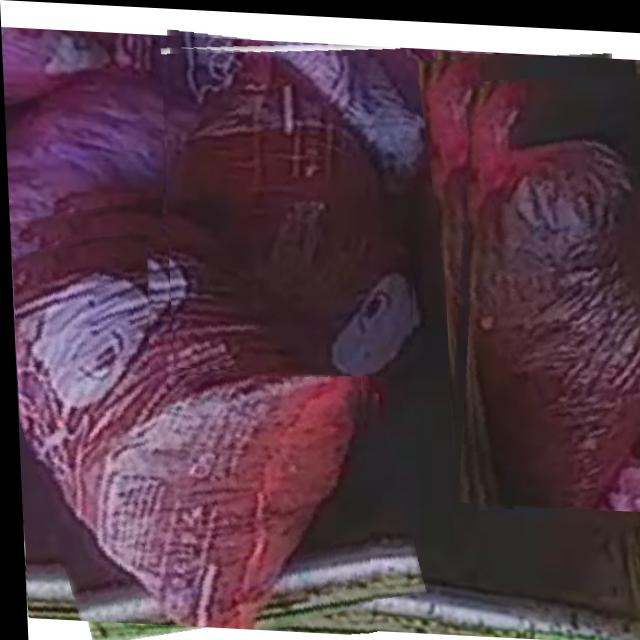other_trashbag: (11, 229, 358, 626), (165, 41, 410, 372), (457, 69, 640, 503)
